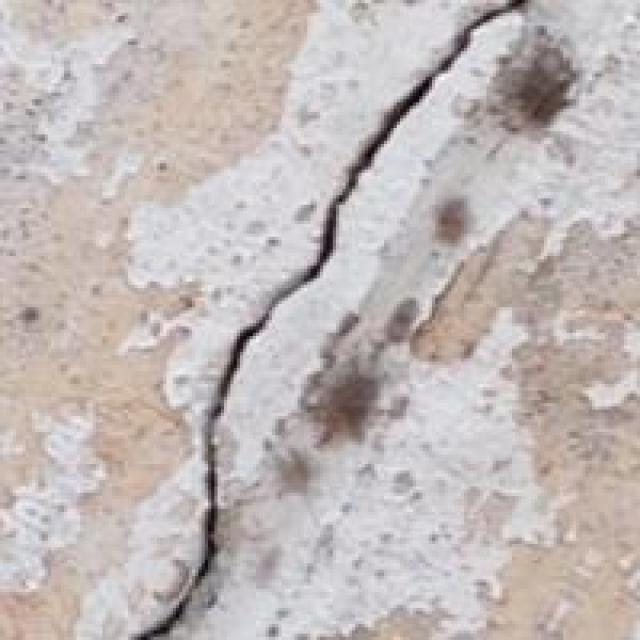crack: (141, 0, 518, 637)
